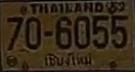0: (74, 15, 90, 48), (24, 16, 40, 48)
5: (110, 15, 127, 48), (92, 15, 108, 48)
6: (55, 16, 71, 48)
7: (6, 16, 22, 49)
CMI: (42, 51, 95, 68)
